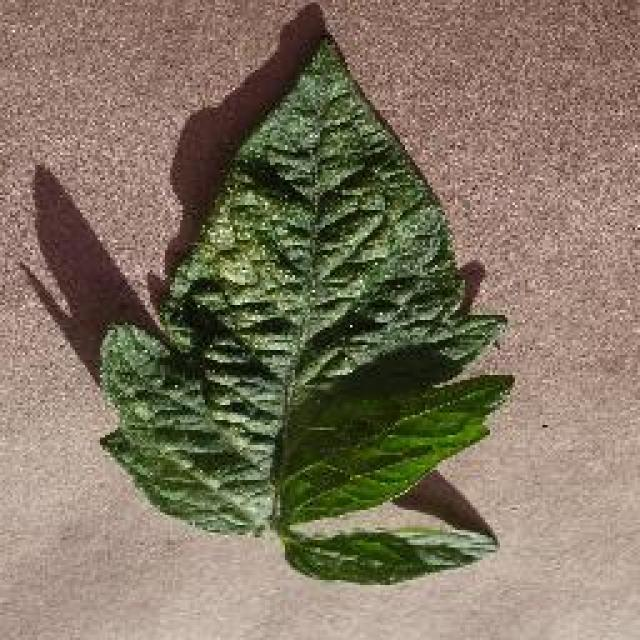Tomato spider mites leaf: (98, 30, 515, 532)
